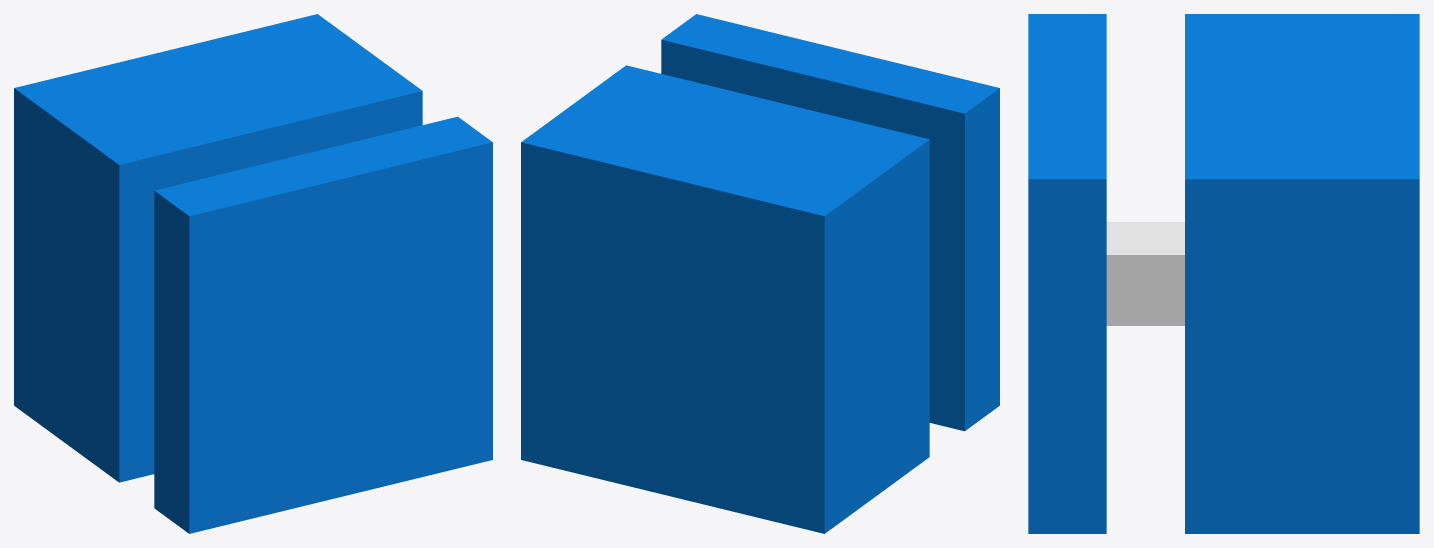
File: bounce.glb
3 renders of one model, left to right at view 1: azimuth 30°, elevation 25°; view 2: azimuth 150°, elevation 25°; view 3: azimuth 270°, elevation 25°, orthographic. The views are drawn at different scales.
Parts seen in each view (by area): view 1: bounce-top, bounce-base; view 2: bounce-base, bounce-top; view 3: bounce-base, bounce-top.
Part boxes in pixels (box(x1,y1,x2,y2)): bounce-top: box(154, 116, 492, 533); bounce-base: box(14, 14, 422, 482); bounce-base: box(521, 65, 929, 533); bounce-top: box(661, 14, 999, 431); bounce-base: box(1185, 14, 1419, 533); bounce-top: box(1028, 14, 1184, 533).
Size of the model in its own units: 1 by 1 by 1.
1 material, 1 textured.
